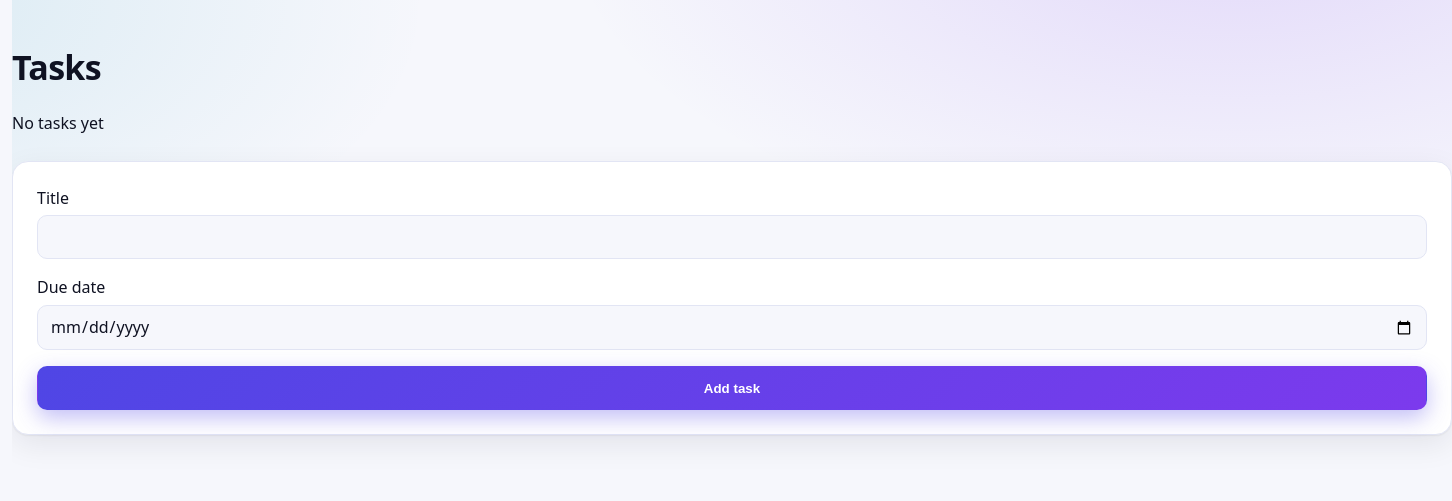
Test: task board interactions › shows the API title msg at Title and keeps the values
The image size is (1452, 501).
Step 1. Type "Buy milk" into the field labelled "Title" → (732, 237), box [37,215,1427,259]
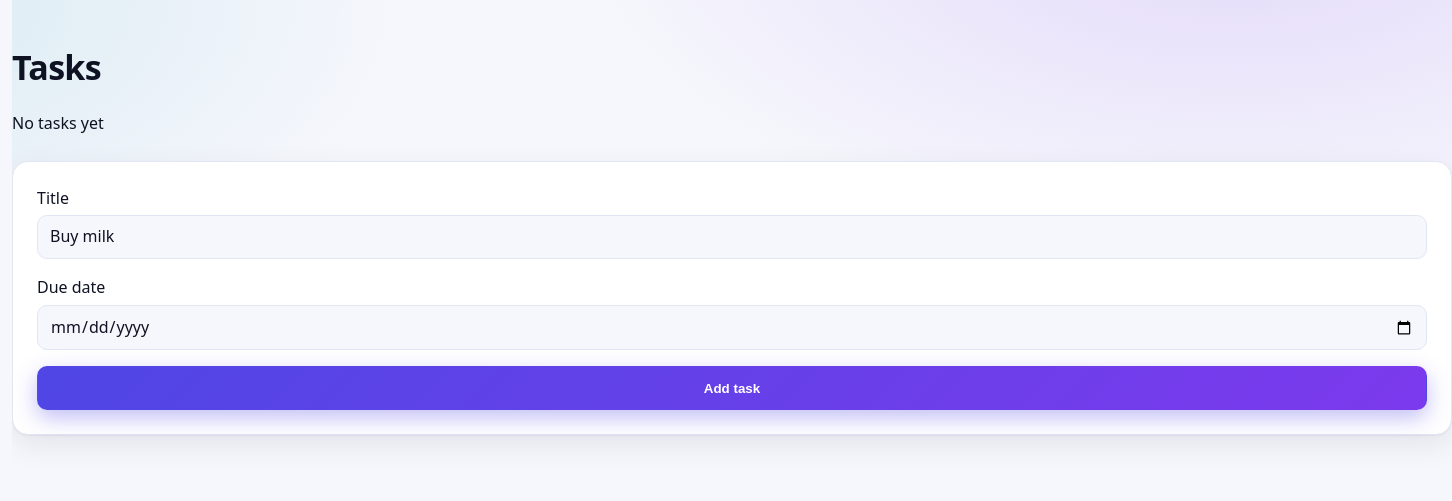
Step 2. Type "2026-12-25" into the date field labelled "Due date" → (732, 328), box [37,305,1427,350]
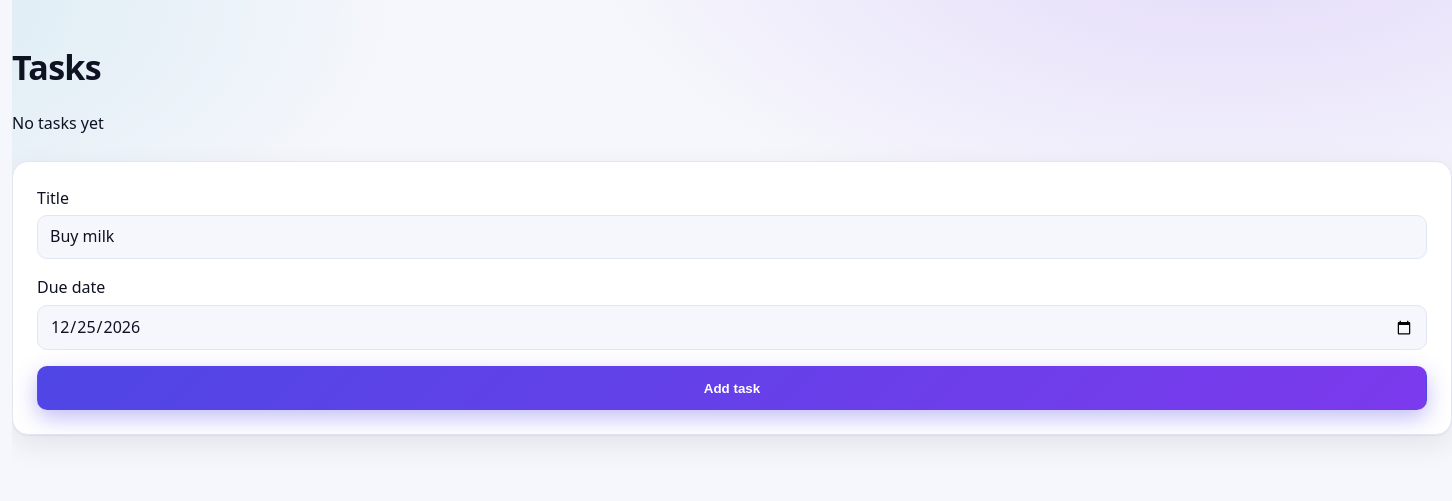
Step 3. Click the button "Add task" → (732, 388), box [37,366,1427,410]
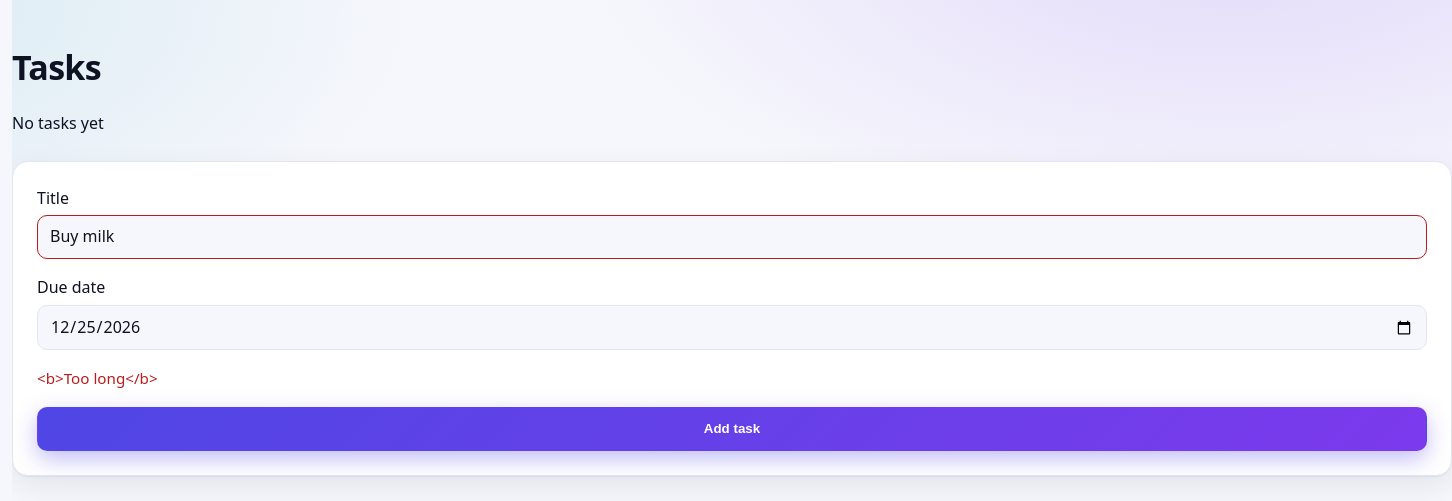
Expected: the message with id "title-error" reads "<b>Too long</b>", [37,368,158,388]
Expected: the number of messages is 1, [37,368,158,388]
